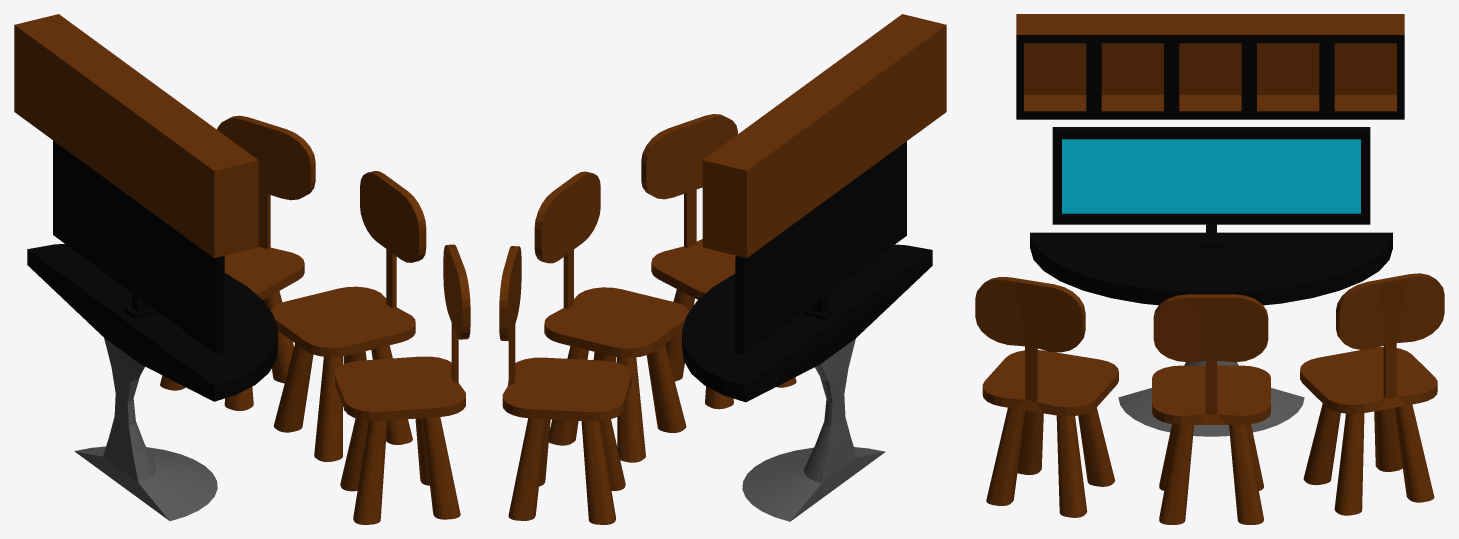
File: Amueblado.fbx
3 views of the same model, side by side, from view 1: azimuth 30°, elevation 25°; view 2: azimuth 150°, elevation 25°; view 3: azimuth 270°, elevation 25° (orthographic). The views are drawn at different scales.
Visible parts, largest first — view 1: Cube, Cylinder, Cube.001, Cube.004, Cube.003, Cube.002; view 2: Cube, Cylinder, Cube.001, Cube.004, Cube.002, Cube.003; view 3: Cube, Cube.004, Cylinder, Cube.002, Cube.003, Cube.001.
Part boxes in pixels (x1,y1,x2,y2): Cube: [14, 14, 258, 258]; Cylinder: [27, 243, 277, 521]; Cube.001: [271, 171, 426, 461]; Cube.004: [53, 140, 224, 354]; Cube.003: [335, 244, 470, 524]; Cube.002: [160, 115, 315, 410]; Cube: [702, 14, 946, 257]; Cylinder: [682, 244, 932, 521]; Cube.001: [534, 171, 688, 462]; Cube.004: [735, 141, 906, 355]; Cube.002: [499, 246, 631, 524]; Cube.003: [641, 114, 796, 409]; Cube: [1016, 14, 1404, 119]; Cube.004: [1052, 127, 1370, 247]; Cylinder: [1030, 232, 1392, 436]; Cube.002: [1300, 273, 1444, 515]; Cube.003: [975, 277, 1118, 517]; Cube.001: [1152, 294, 1270, 524].
Bounding box in the file's own units: 175 × 231 × 259.
